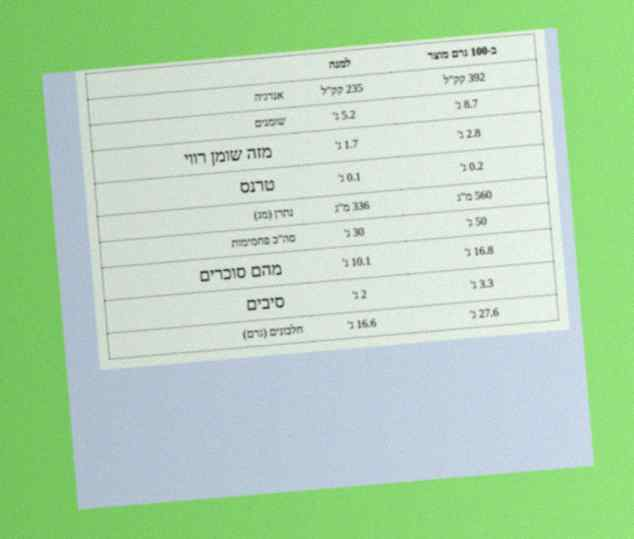carbs: (465, 213, 489, 230)
energy: (441, 69, 487, 88)
fat: (453, 96, 480, 113)
protein: (468, 304, 501, 322)
